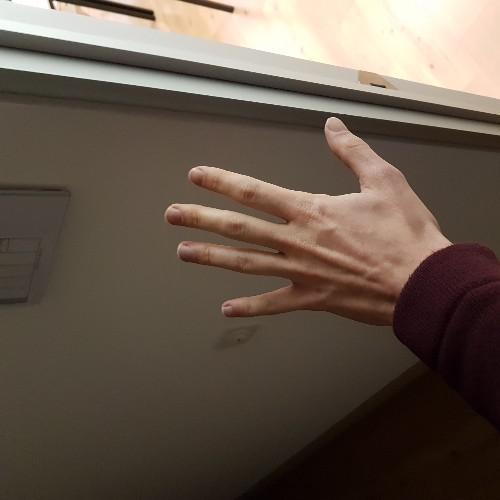paper: (160, 111, 463, 355)
